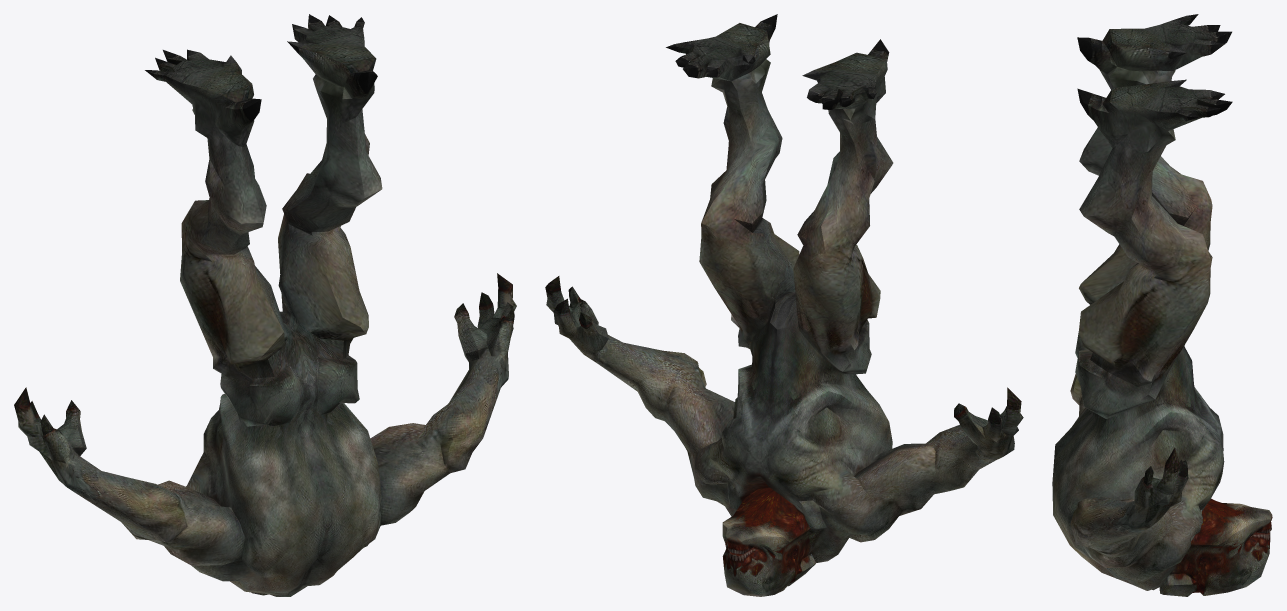
The picture shows the model from 3 angles, left to right: view 1: azimuth 30°, elevation 25°; view 2: azimuth 150°, elevation 25°; view 3: azimuth 270°, elevation 25°; orthographic projection. The views are drawn at different scales.
Visible parts, largest first — view 1: hellknight; view 2: hellknight; view 3: hellknight.
Part boxes in pixels (x1,y1,x2,y2): hellknight: [14, 14, 516, 596]; hellknight: [545, 14, 1023, 596]; hellknight: [1052, 14, 1272, 596].
Bounding box in the file's own units: 126 × 132 × 49.5.
Materials: 2 (2 with a texture image).
